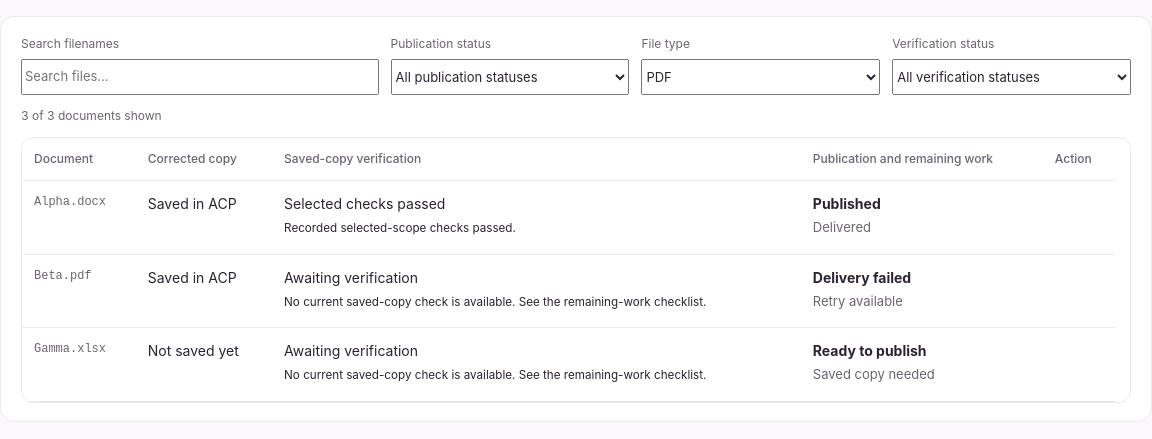
Test case: combines file type with publication filters
Select "PDF" in the dropdown labelled "File type" at (761, 77), box x1=641 y1=59 x2=880 y2=95
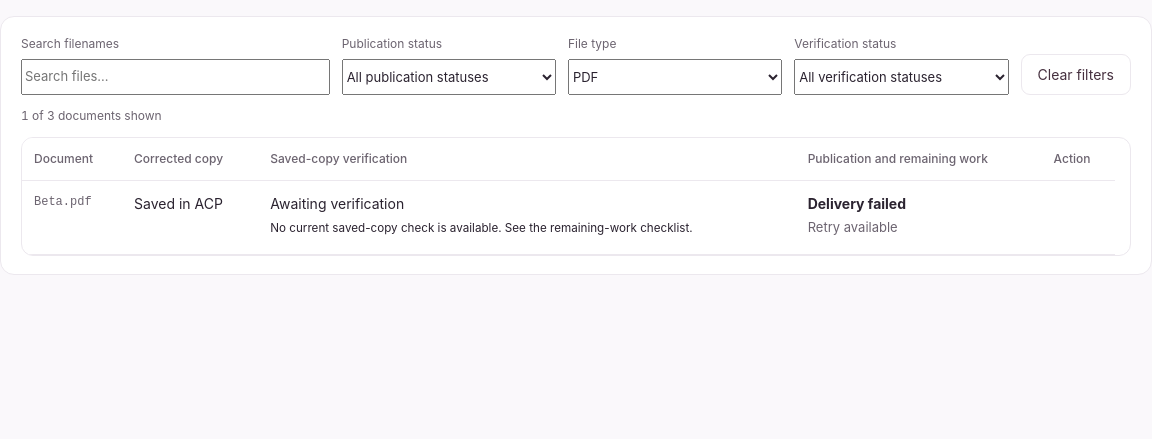
Result: the message "1 of 3 documents shown" is shown at x1=21 y1=108 x2=162 y2=123
